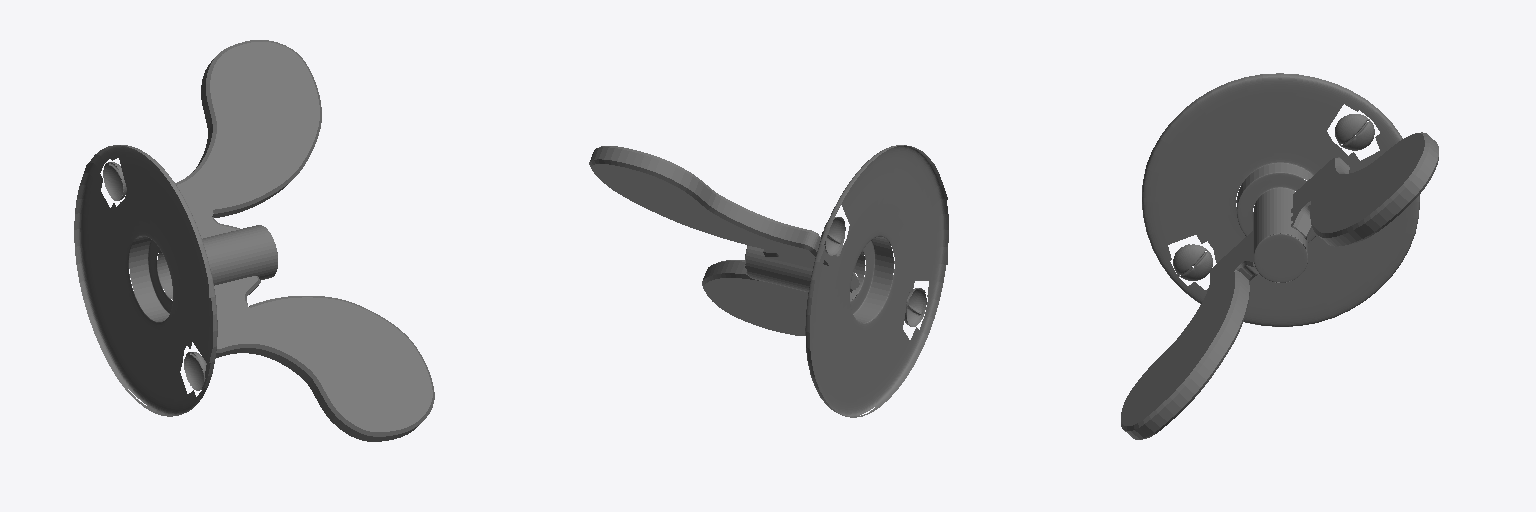
The model's file is rightСircle.obj.
The picture shows the model from 3 angles: view 1: azimuth 30°, elevation 25°; view 2: azimuth 150°, elevation 25°; view 3: azimuth 270°, elevation 25°; orthographic projection.
Visible parts, largest first — view 1: felix.002; view 2: felix.002; view 3: felix.002.
Boxes of the visible parts, x1=… form: felix.002: x1=74, y1=40, x2=434, y2=441; felix.002: x1=589, y1=145, x2=948, y2=417; felix.002: x1=1121, y1=73, x2=1438, y2=439.
Size of the model in its own units: 6.82 by 8.28 by 8.28.